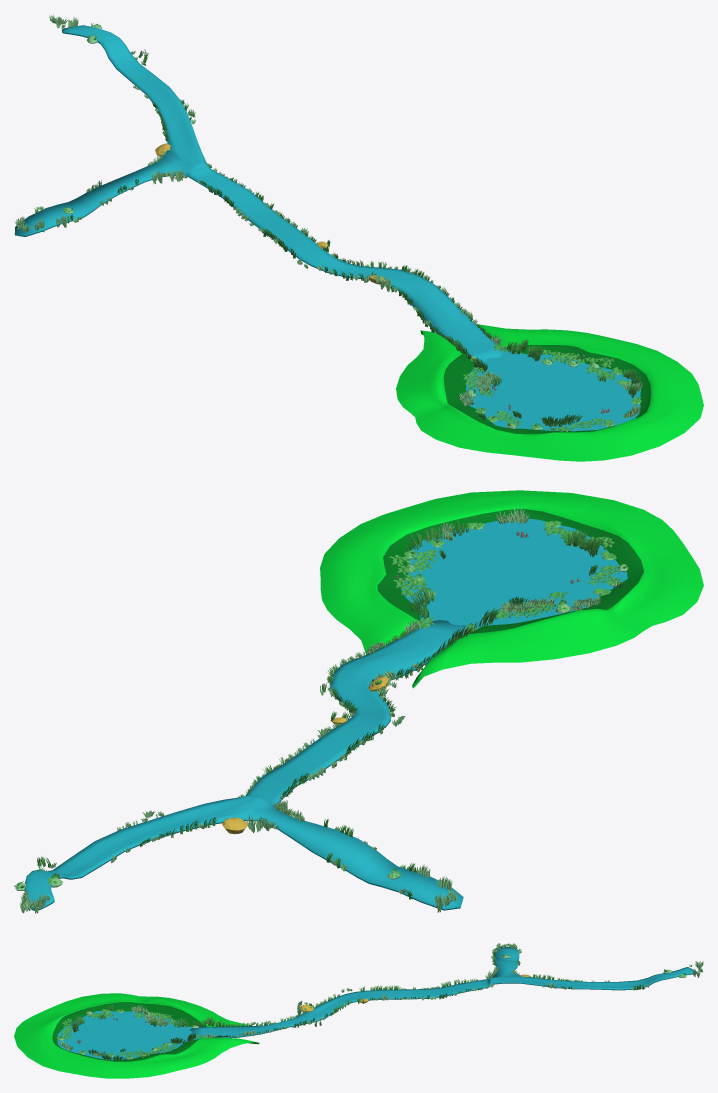
File: wetlands.glb
The picture shows the model from 3 angles, top to bottom: view 1: azimuth 30°, elevation 25°; view 2: azimuth 150°, elevation 25°; view 3: azimuth 270°, elevation 25°; orthographic projection. The views are drawn at different scales.
Visible parts, largest first — view 1: water_001.018, water_001.003, water_001.001; view 2: water_001.018, water_001.003, water_001.001; view 3: water_001.018, water_001.003, water_001.001.
Boxes of the visible parts, bbox=[...] form: water_001.018: bbox=[396, 324, 703, 461]; water_001.003: bbox=[14, 25, 502, 360]; water_001.001: bbox=[465, 349, 640, 431]; water_001.018: bbox=[320, 490, 703, 688]; water_001.003: bbox=[24, 620, 467, 910]; water_001.001: bbox=[401, 518, 627, 628]; water_001.018: bbox=[14, 993, 259, 1078]; water_001.003: bbox=[190, 946, 697, 1038]; water_001.001: bbox=[57, 1011, 202, 1060].
Size of the model in its own units: 102 by 23.21 by 240.
7 materials, 3 textured.
